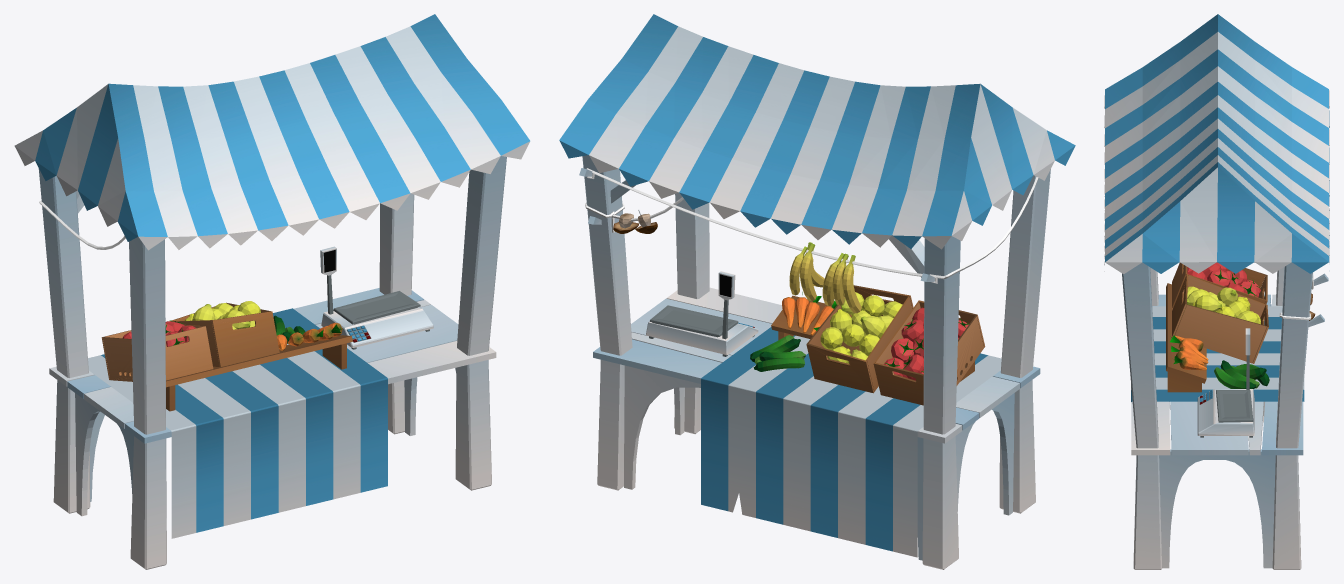
Rendered from market.glb.
3 views of the same model, side by side, from view 1: azimuth 30°, elevation 25°; view 2: azimuth 150°, elevation 25°; view 3: azimuth 270°, elevation 25° (orthographic). The views are drawn at different scales.
Bounding box in the file's own units: 143 × 157 × 78.65.
Materials: 16 (14 with a texture image).
